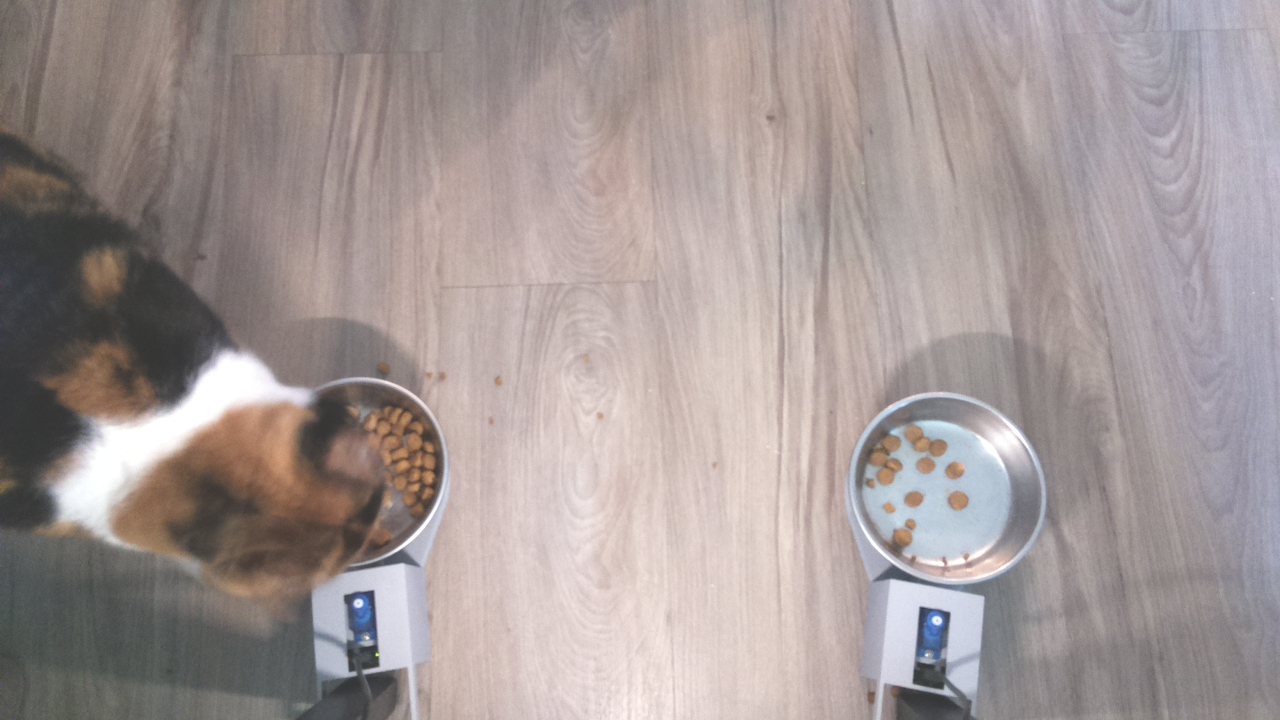bella_eating: (136, 351, 450, 614)
open_bowl: (840, 386, 1071, 591)
